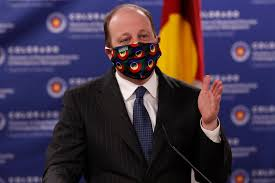mask: (103, 12, 164, 79)
